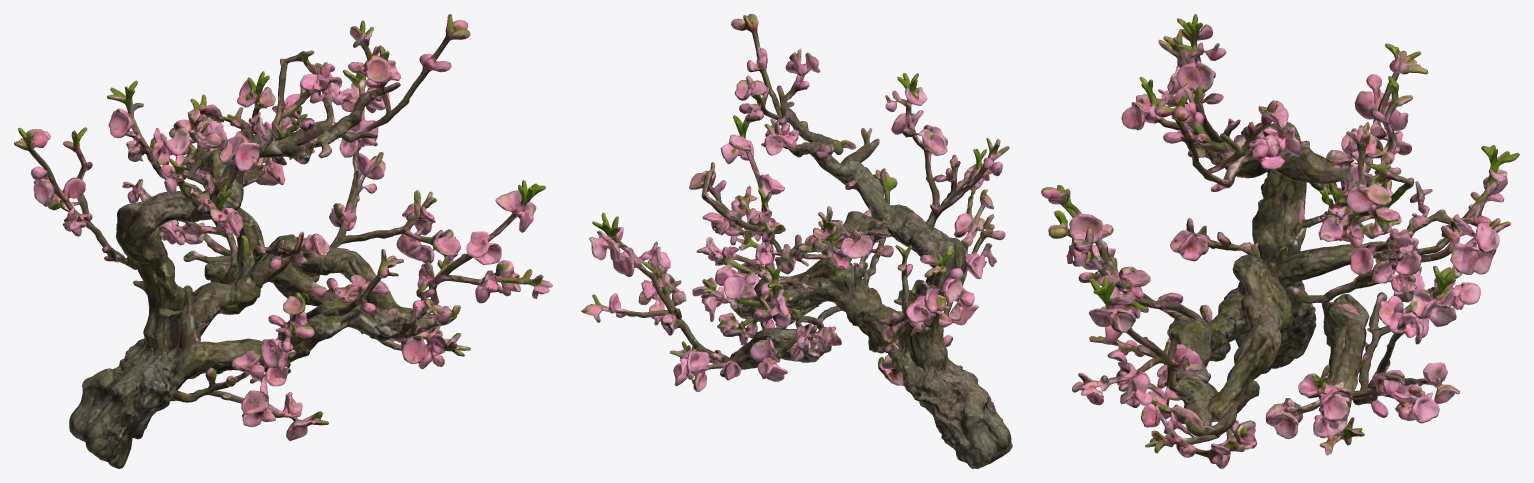
The model's file is peach-branch.glb.
3 views of the same model, side by side, from view 1: azimuth 30°, elevation 25°; view 2: azimuth 150°, elevation 25°; view 3: azimuth 270°, elevation 25° (orthographic). The views are drawn at different scales.
Visible parts, largest first — view 1: geometry_0; view 2: geometry_0; view 3: geometry_0.
Part boxes in pixels (box(x1,y1,x2,y2)): geometry_0: box(14, 14, 552, 468); geometry_0: box(581, 14, 1012, 468); geometry_0: box(1041, 14, 1519, 468).
Size of the model in its own units: 0.85 by 0.8499 by 0.8495.
1 material, 1 textured.
